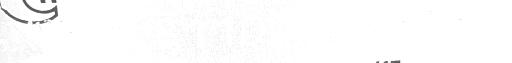letter: (7, 16, 39, 55), (407, 7, 439, 42), (376, 9, 408, 44), (94, 15, 124, 52), (122, 15, 154, 48), (324, 9, 352, 46), (239, 10, 267, 47), (184, 13, 212, 50), (66, 15, 94, 52), (466, 5, 494, 40), (265, 11, 293, 46), (296, 11, 324, 46), (355, 7, 379, 46), (214, 12, 238, 51), (36, 18, 64, 51), (154, 15, 178, 50), (440, 6, 462, 41)
